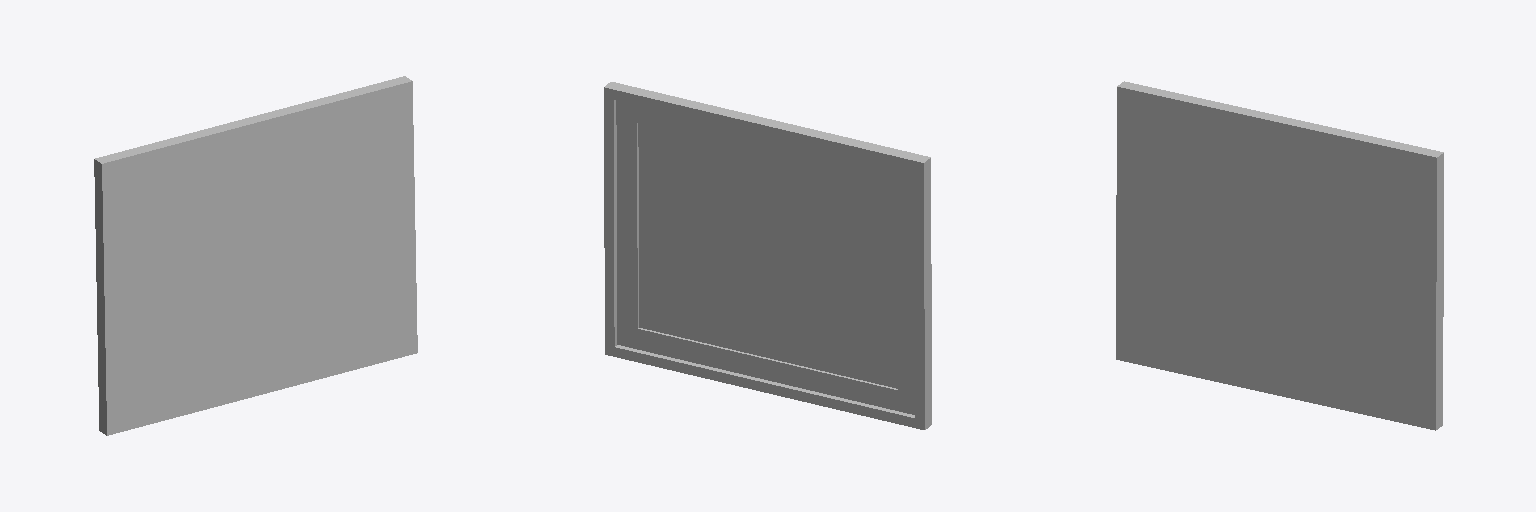
Rendered from Cuadro.obj.
The picture shows the model from 3 angles: view 1: azimuth 30°, elevation 25°; view 2: azimuth 150°, elevation 25°; view 3: azimuth 330°, elevation 25°; orthographic projection.
Size of the model in its own units: 48.1 by 39.48 by 4.03.